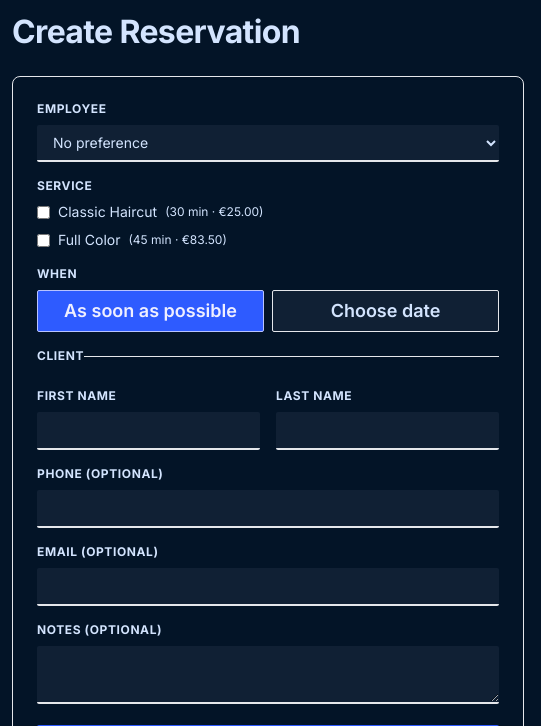
Test: CreateReservation (crear) › sin disponibilidad → mensaje de vacío
Select "Employee Demo" in the dropdown labelled "Employee". click: {"x": 268, "y": 144}
box: [37, 125, 499, 162]
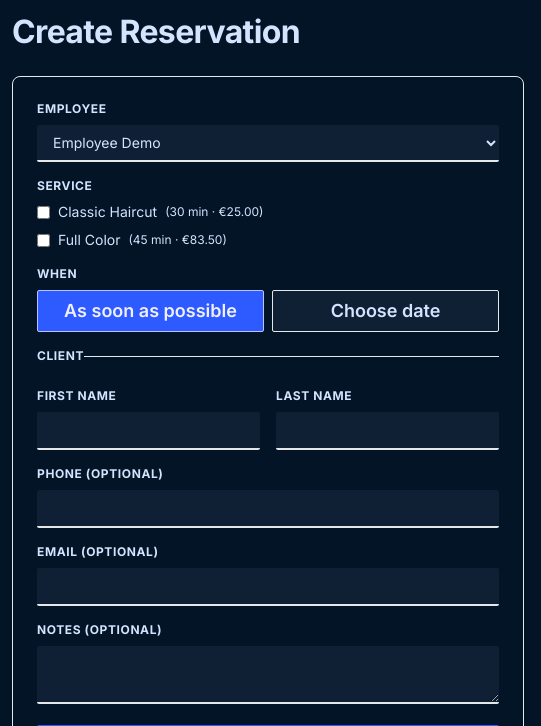
Click the checkbox labelled "Classic Haircut (30 min · €25.00)". click: {"x": 44, "y": 212}
box: [37, 206, 50, 218]
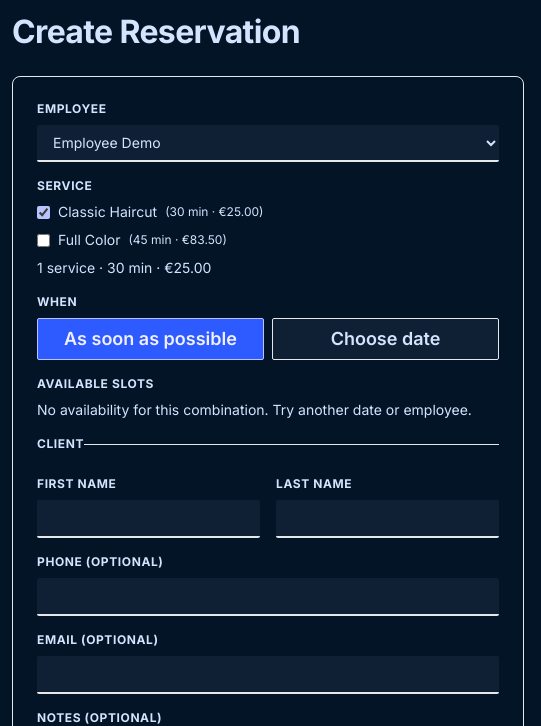
Now the text "No availability for this combination. Try another date or employee." is shown, box [37, 400, 499, 420]
